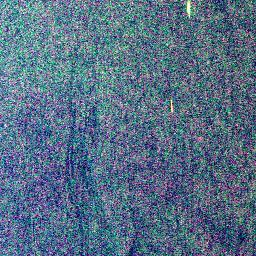Ship: (181, 0, 196, 17), (166, 98, 176, 114)
